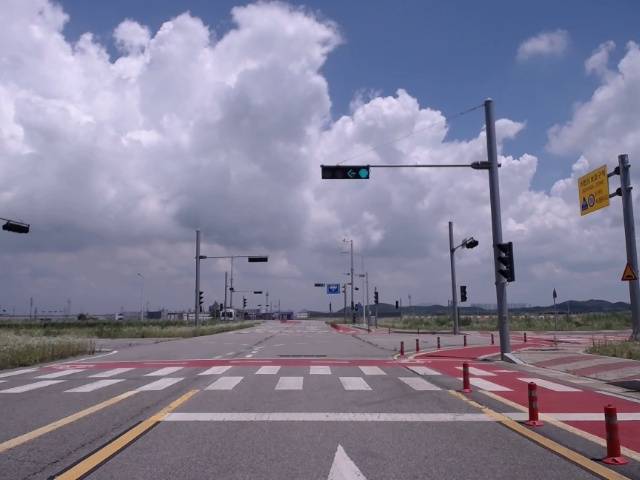all_green_4: (321, 166, 368, 180)
